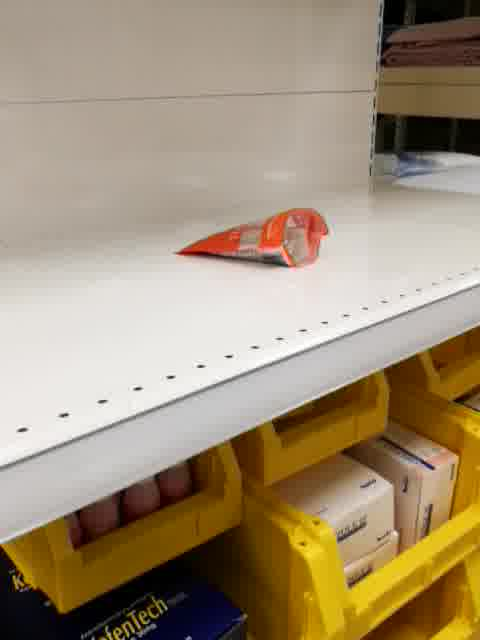whitechia: (170, 205, 333, 271)
